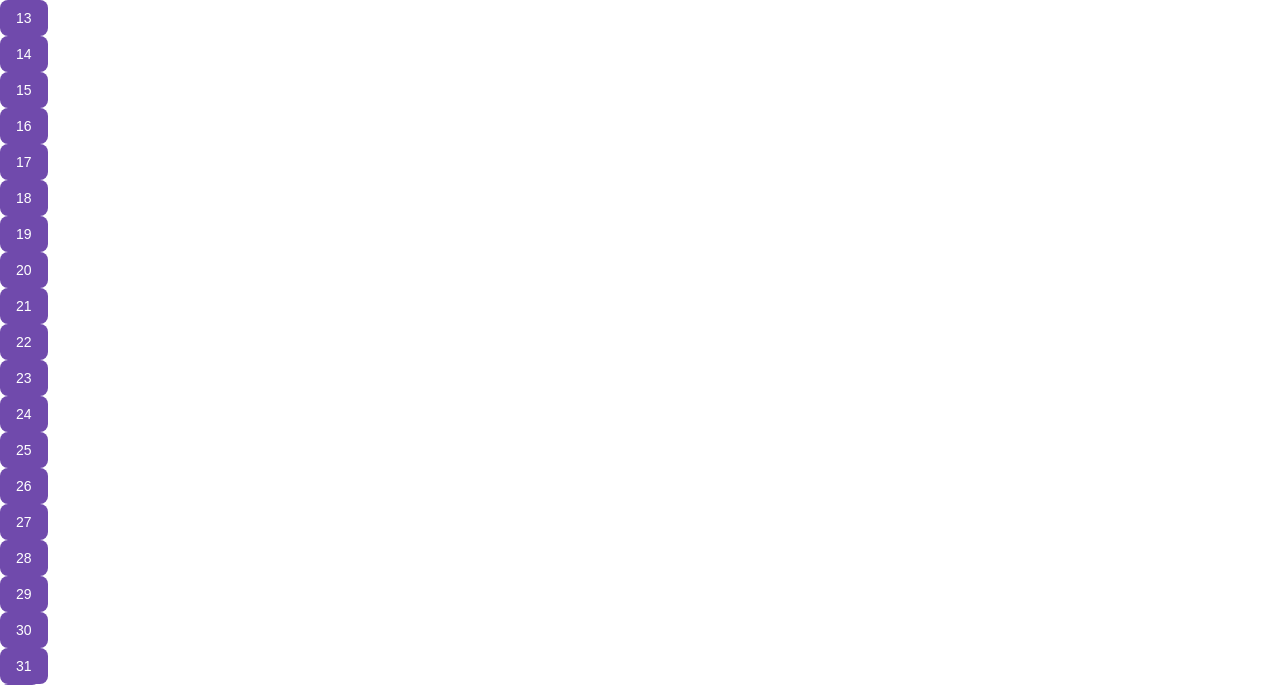
it: MonthCard › moves focus into the popover and back to the chip on close
(page scrolled)
What coordinates should you click on to do the following:
click the button "Industry Panel"
I would click on:
 (108, 342)
Its box is x1=48 y1=324 x2=169 y2=360.
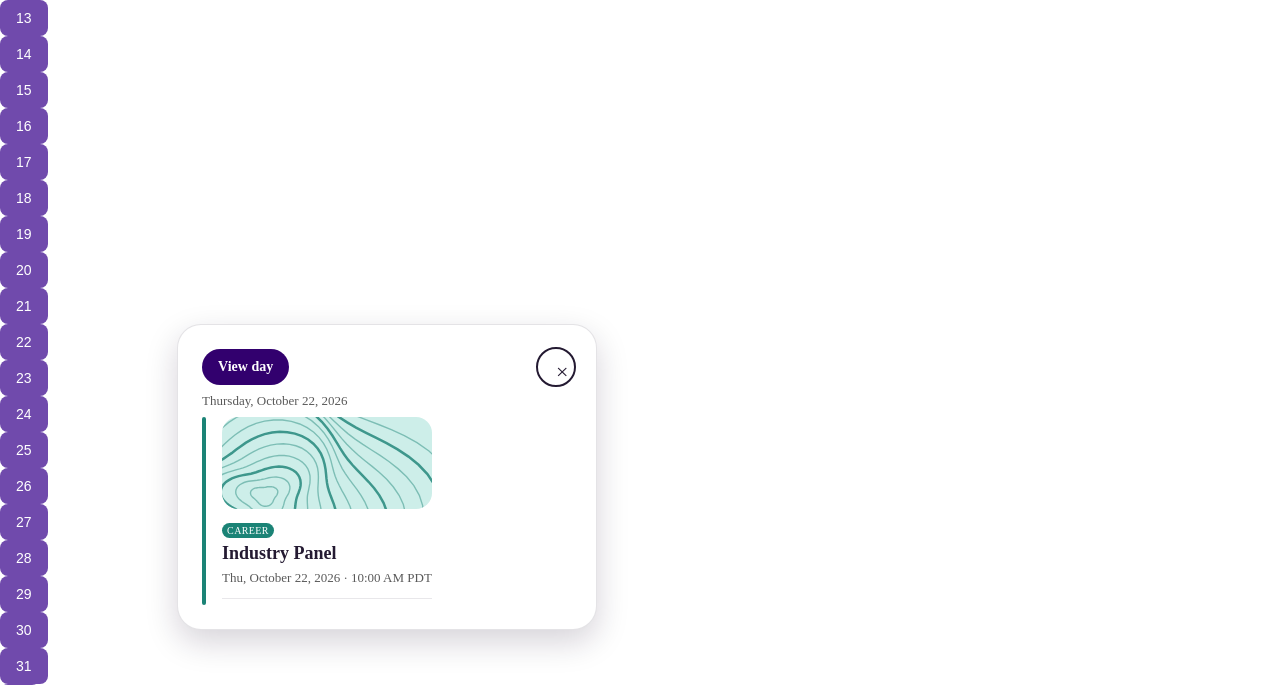
What coordinates should you click on to do the following:
click the button named "Close"
I would click on:
 (556, 367)
Its box is x1=540 y1=351 x2=572 y2=383.
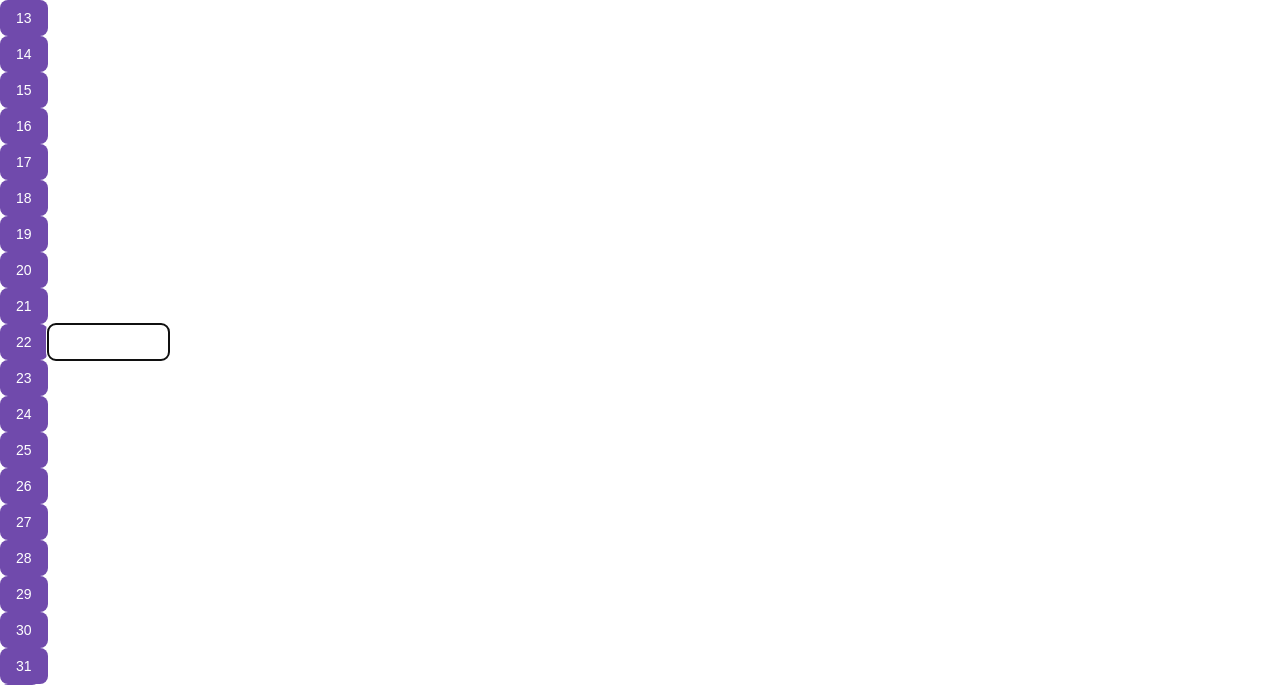
Expected: the dialog is gone
